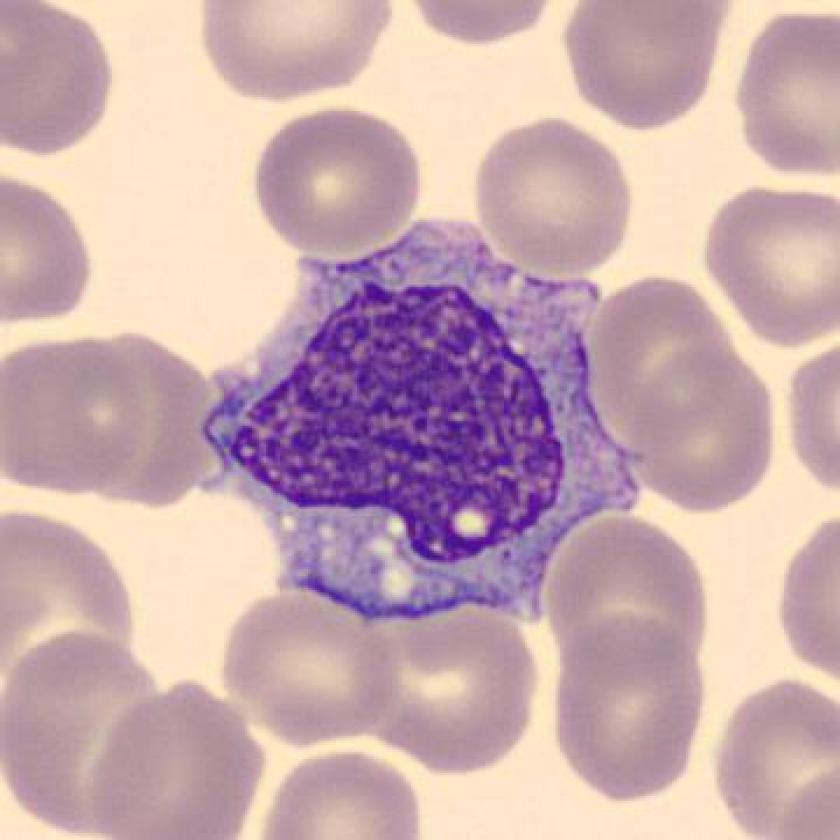monocyte: (178, 198, 659, 644)
